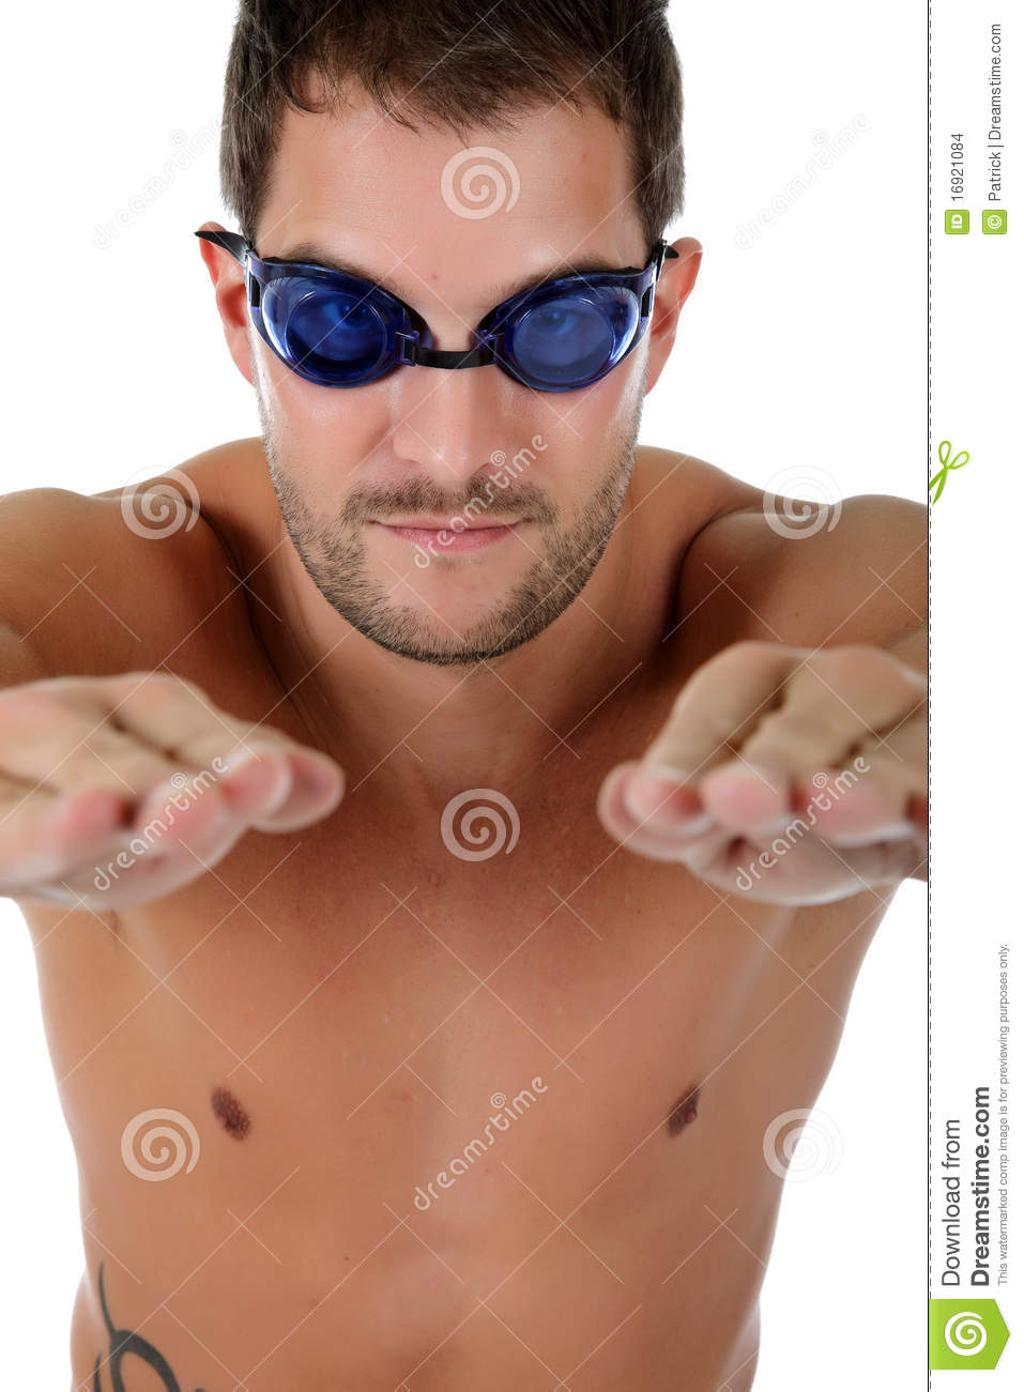face: (258, 120, 646, 652)
